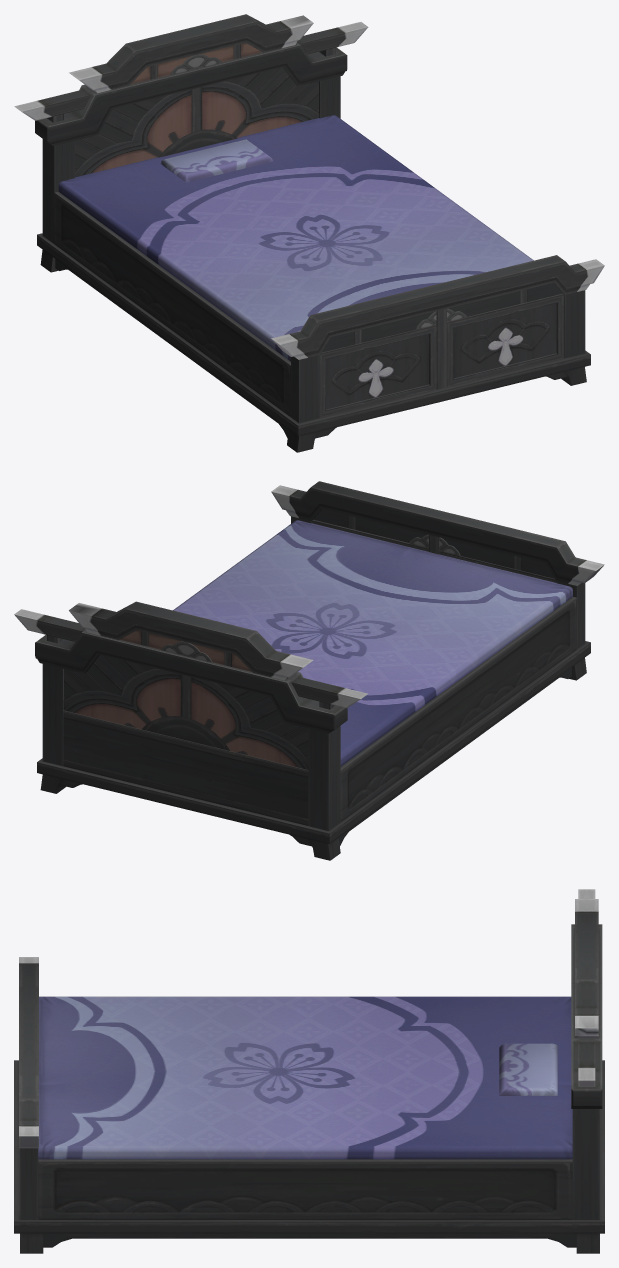
File: Homeworld_Interior_Dq_Bed_Bed_01_Vo.fbx
3 renders of one model, top to bottom at view 1: azimuth 30°, elevation 25°; view 2: azimuth 150°, elevation 25°; view 3: azimuth 270°, elevation 25°, orthographic. The views are drawn at different scales.
Visible parts, largest first — view 1: Homeworld_Interior_Dq_Bed_Bed_01_Vo; view 2: Homeworld_Interior_Dq_Bed_Bed_01_Vo; view 3: Homeworld_Interior_Dq_Bed_Bed_01_Vo.
Part boxes in pixels (x1=…): Homeworld_Interior_Dq_Bed_Bed_01_Vo: x1=14, y1=14, x2=604, y2=452; Homeworld_Interior_Dq_Bed_Bed_01_Vo: x1=14, y1=481, x2=604, y2=860; Homeworld_Interior_Dq_Bed_Bed_01_Vo: x1=14, y1=889, x2=604, y2=1253.
Bounding box in the file's own units: 1.99 × 1.1 × 2.6.
